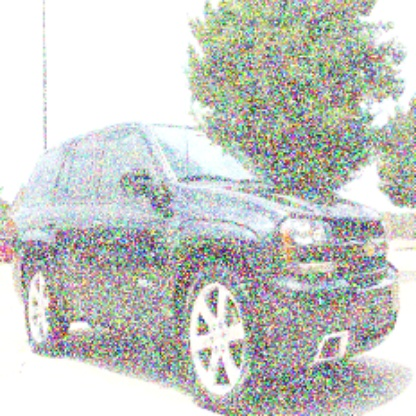Vehicle: (11, 120, 402, 414)
